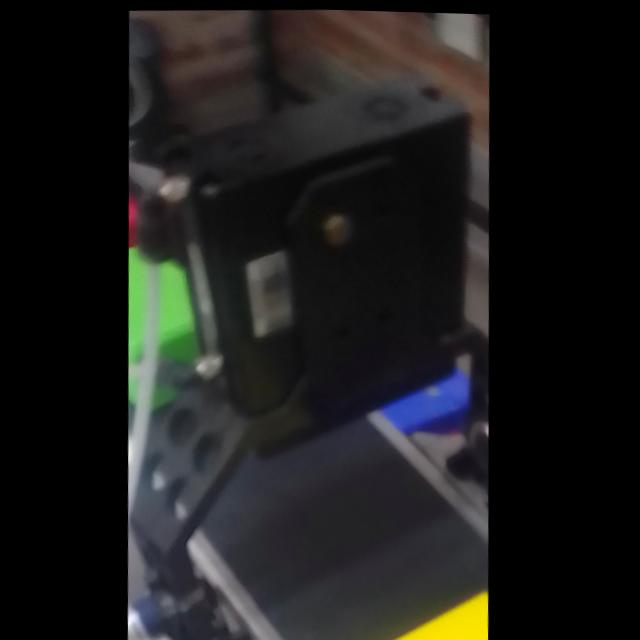yellowBox: (364, 573, 495, 640)
